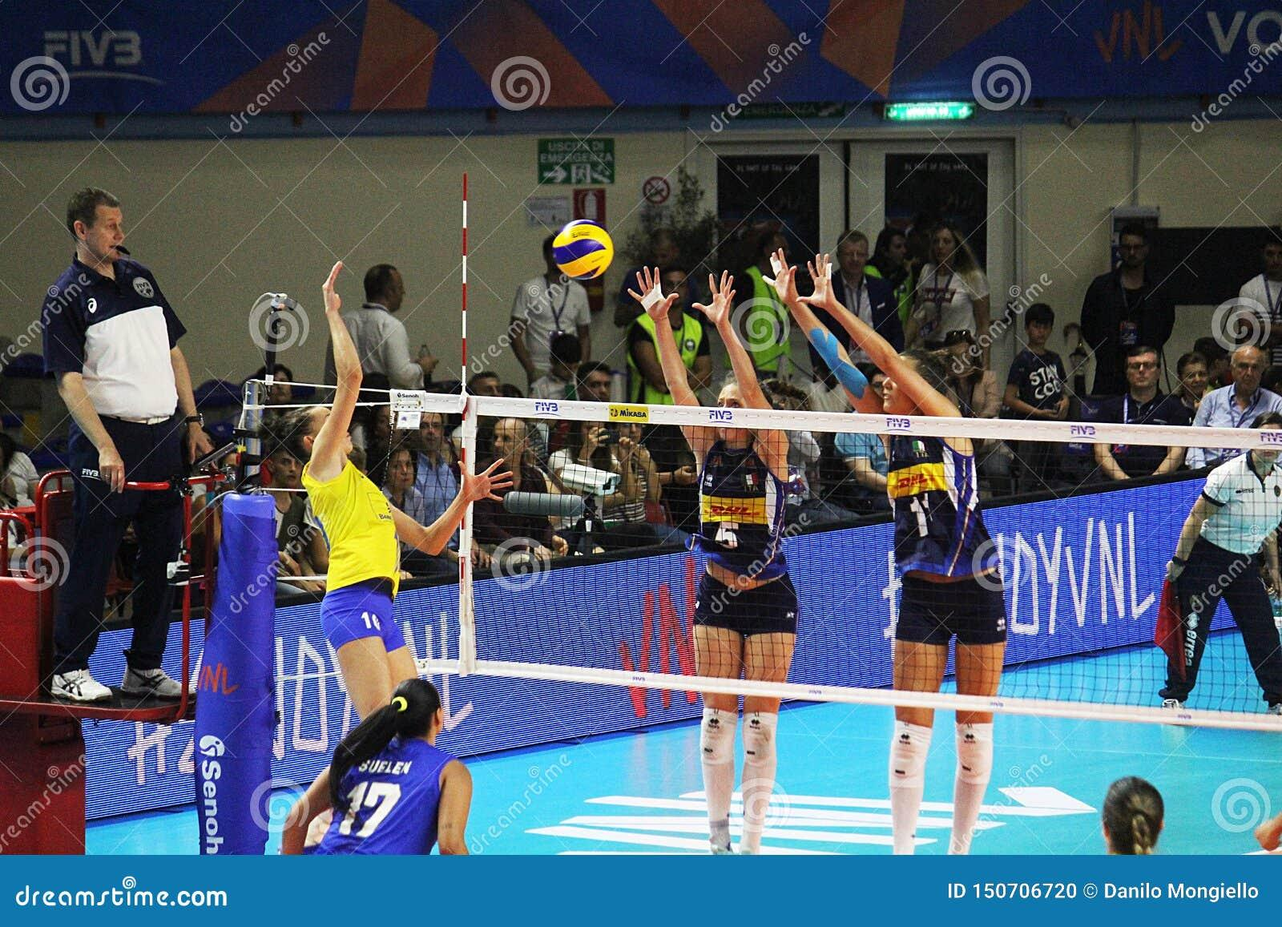ballon_volley: (549, 211, 613, 282)
